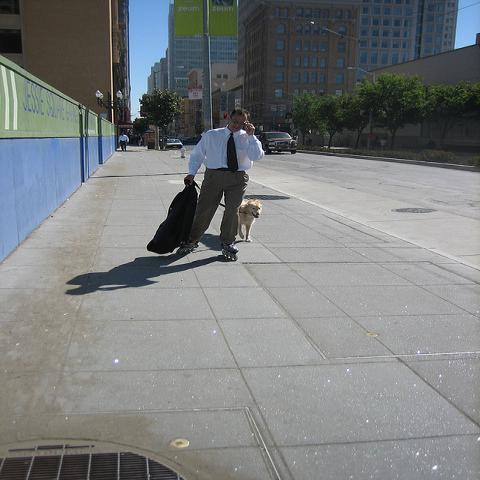car: (181, 135, 202, 145), (164, 138, 183, 149)
truck: (258, 131, 296, 154)
